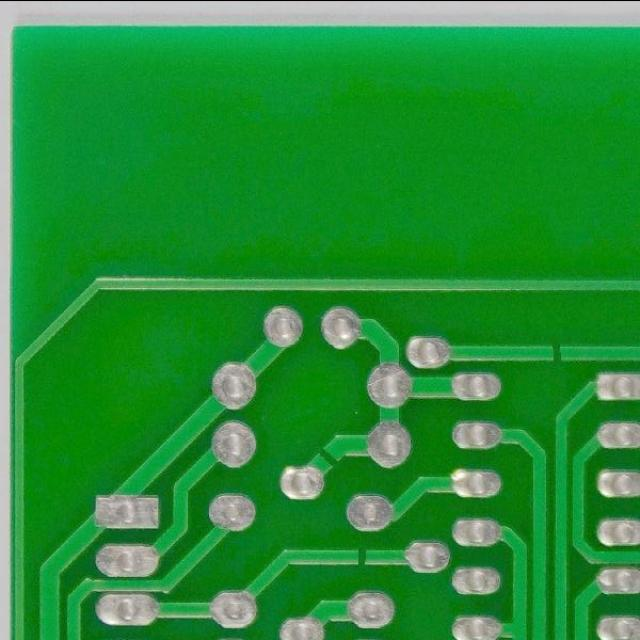open_circuit: (348, 543, 378, 572), (313, 442, 342, 472), (547, 336, 571, 368)
